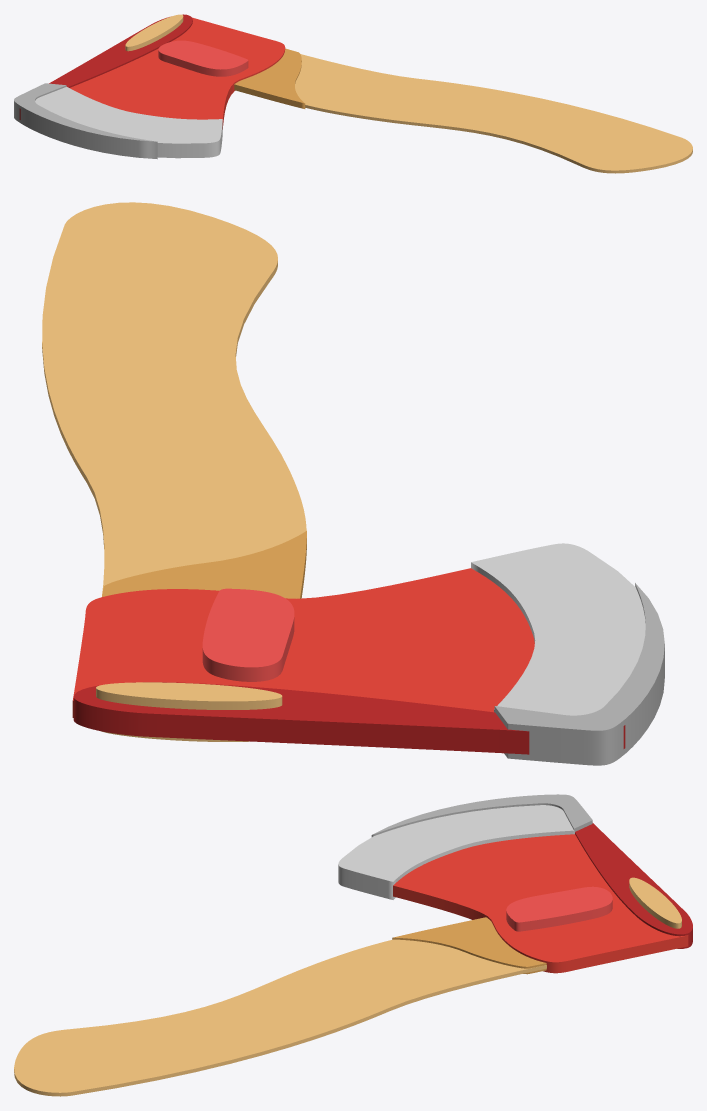
File: emoji_u1fa93.glb
The picture shows the model from 3 angles, top to bottom: view 1: azimuth 30°, elevation 25°; view 2: azimuth 150°, elevation 25°; view 3: azimuth 270°, elevation 25°; orthographic projection. The views are drawn at different scales.
Parts seen in each view (by area): view 1: emoji_u1fa93; view 2: emoji_u1fa93; view 3: emoji_u1fa93.
Part boxes in pixels (x1,y1,x2,y2): emoji_u1fa93: [14, 14, 692, 173]; emoji_u1fa93: [42, 202, 664, 765]; emoji_u1fa93: [14, 794, 692, 1096].
Size of the model in its own units: 0.034 by 0.0016 by 0.0338.
